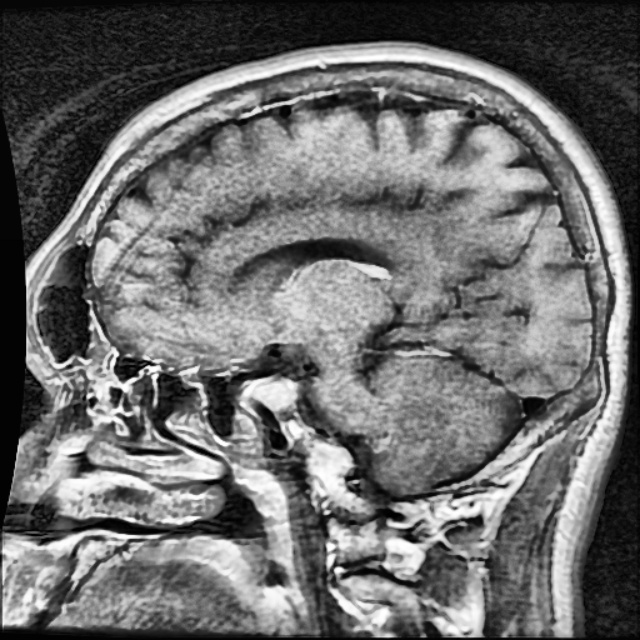Pituitary: (248, 374, 294, 408)
